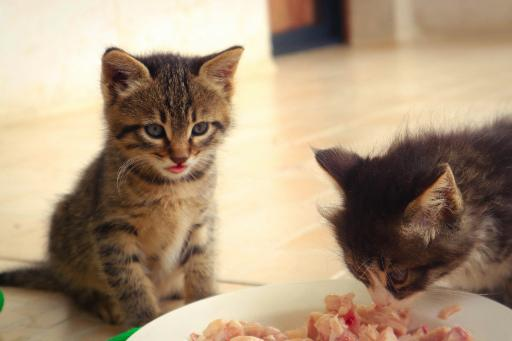cat_eating: (137, 117, 512, 341)
